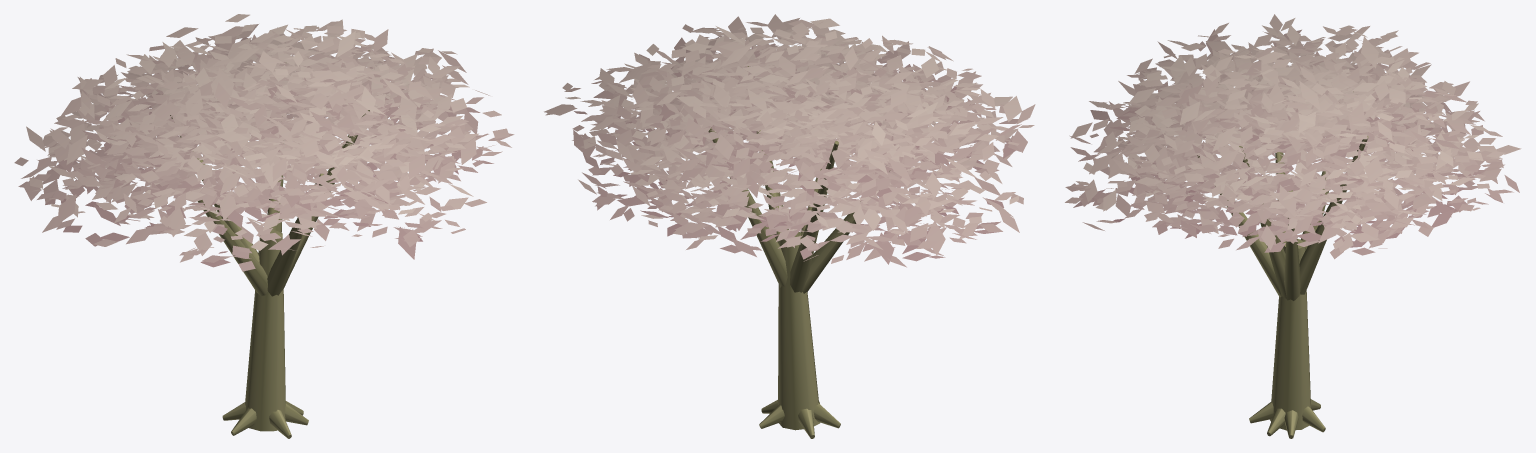
The model's file is sakura_tree.glb.
3 views of the same model, side by side, from view 1: azimuth 30°, elevation 25°; view 2: azimuth 150°, elevation 25°; view 3: azimuth 270°, elevation 25° (orthographic). The views are drawn at different scales.
Visible parts, largest first — view 1: Canopy, Body; view 2: Canopy, Body; view 3: Canopy, Body.
Part boxes in pixels (x1,y1,x2,y2): Canopy: (14,14,514,271); Body: (170,62,369,438); Canopy: (544,14,1035,267); Body: (708,66,890,438); Canopy: (1065,14,1521,259); Body: (1197,91,1368,438).
Bounding box in the file's own units: 7.89 × 6.46 × 7.32.
